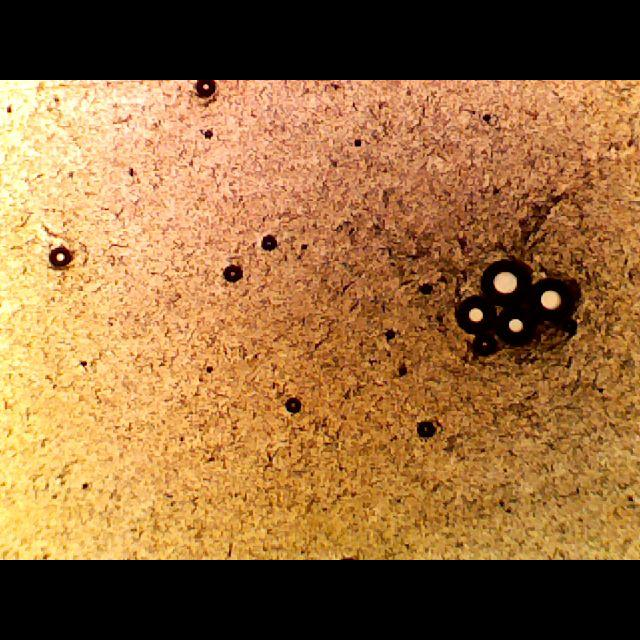microbeads: (528, 266, 572, 324), (482, 254, 532, 302), (454, 292, 498, 334), (497, 306, 538, 348), (221, 262, 245, 286), (258, 231, 280, 255), (193, 80, 219, 100), (411, 422, 437, 441), (48, 246, 70, 268), (281, 394, 305, 414)
